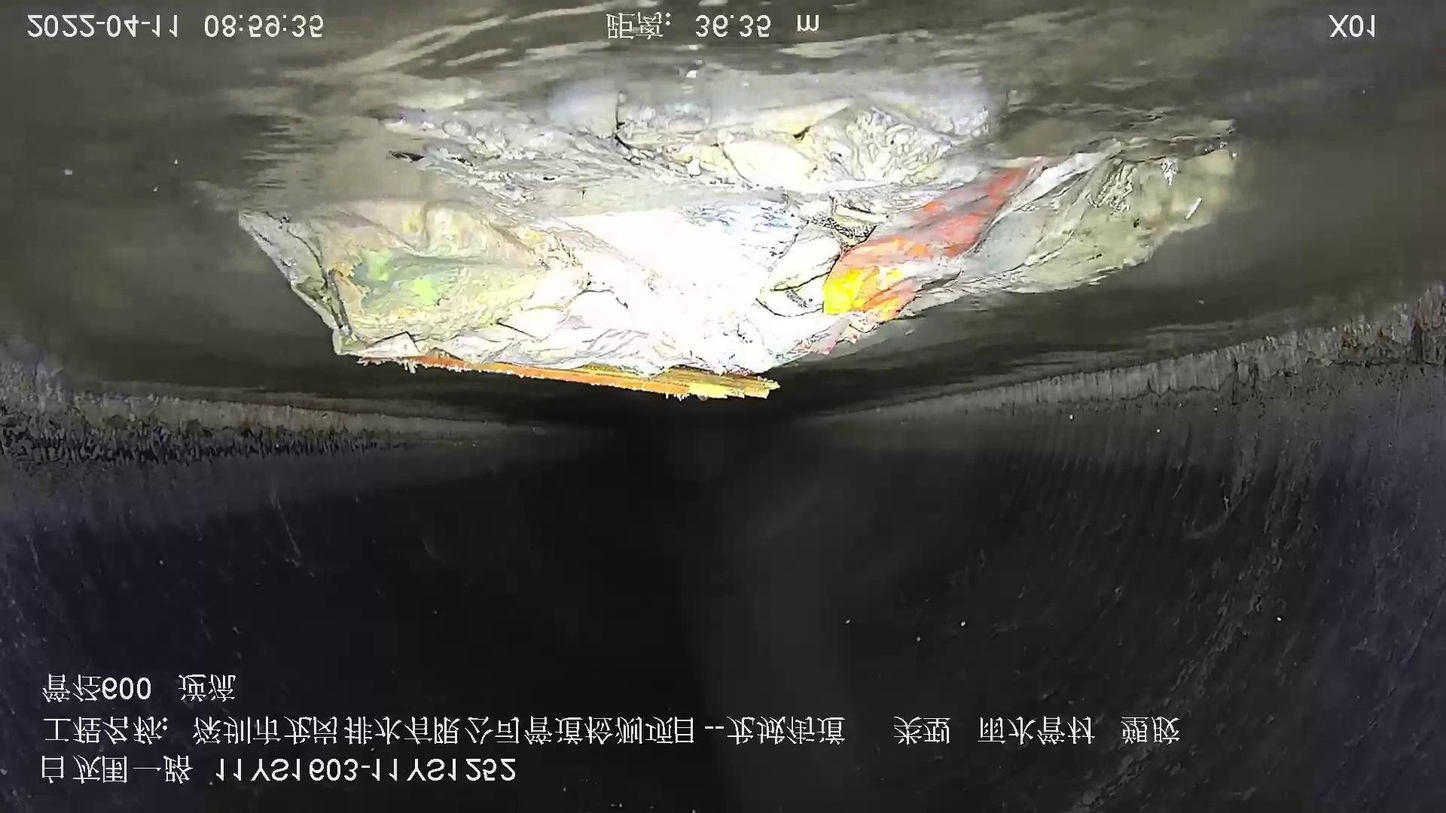ZAW: (239, 83, 1241, 397)
